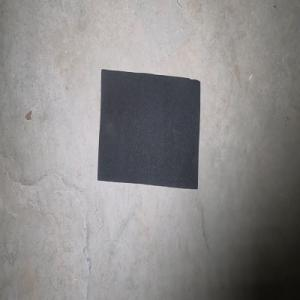PaintChip: (97, 69, 200, 189)
